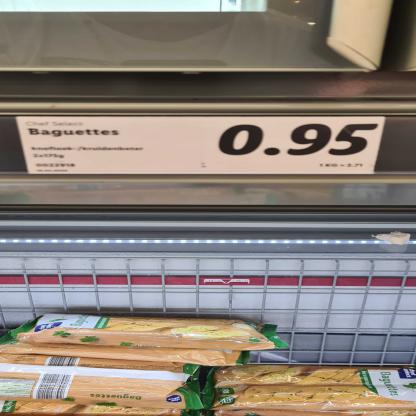prtg: (17, 118, 388, 176)
